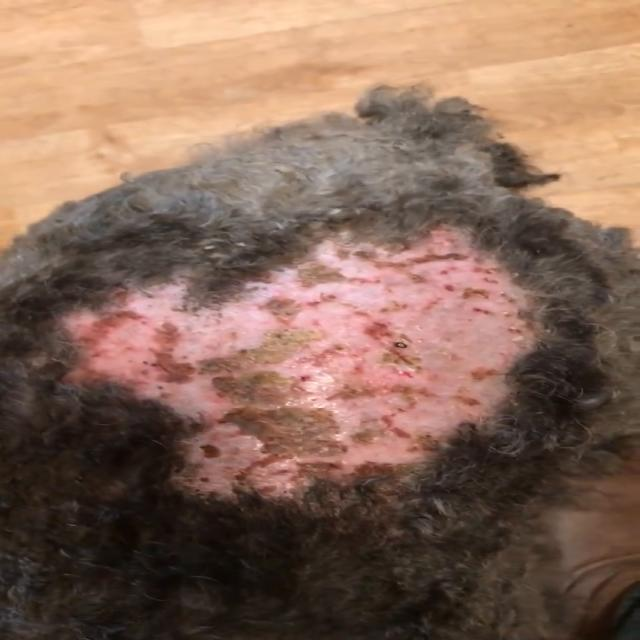allergic dermatitis: (60, 225, 531, 516)
